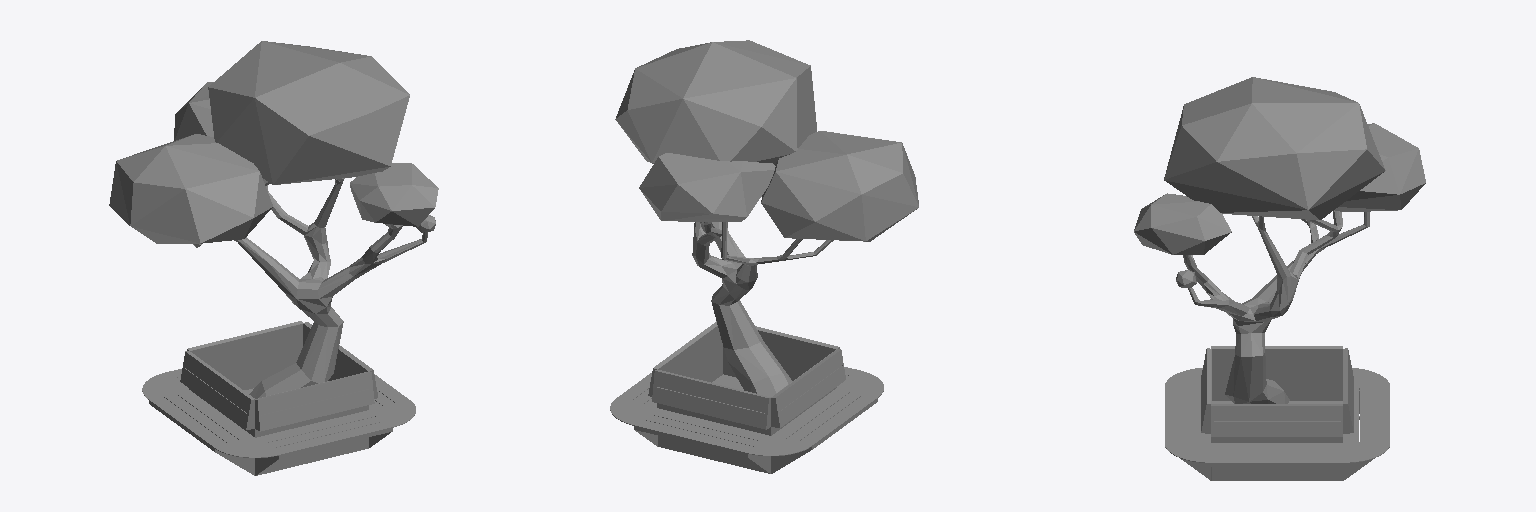
The model's file is Jardinera2.obj.
3 renders of one model, left to right at view 1: azimuth 30°, elevation 25°; view 2: azimuth 150°, elevation 25°; view 3: azimuth 270°, elevation 25°, orthographic.
Visible parts, largest first — view 1: Lowpoly_Tree_01, A3, plastimadera, placa, TroncoB007, A2, tubular, A4; view 2: Lowpoly_Tree_01, A3, plastimadera, placa, TroncoB007, A4, tubular; view 3: Lowpoly_Tree_01, placa, plastimadera, TroncoB007, A2, A4, tubular.
Part boxes in pixels (x1,y1,x2,y2): Lowpoly_Tree_01: (208,41,409,184); A3: (109,134,272,243); plastimadera: (153,355,406,453); placa: (142,323,415,475); TroncoB007: (193,178,427,398); A2: (350,163,438,226); tubular: (149,321,408,458); A4: (174,82,213,140); Lowpoly_Tree_01: (615,40,816,164); A3: (761,131,918,241); plastimadera: (620,353,873,451); placa: (610,325,883,473); TroncoB007: (692,222,833,396); A4: (639,153,775,221); tubular: (617,321,877,456); Lowpoly_Tree_01: (1164,77,1385,219); placa: (1165,349,1389,480); plastimadera: (1167,355,1387,461); TroncoB007: (1183,210,1369,403); A2: (1134,193,1231,254); A4: (1335,123,1425,211); tubular: (1165,346,1389,466).
Bounding box in the file's own units: 51.71 × 66.56 × 47.3.